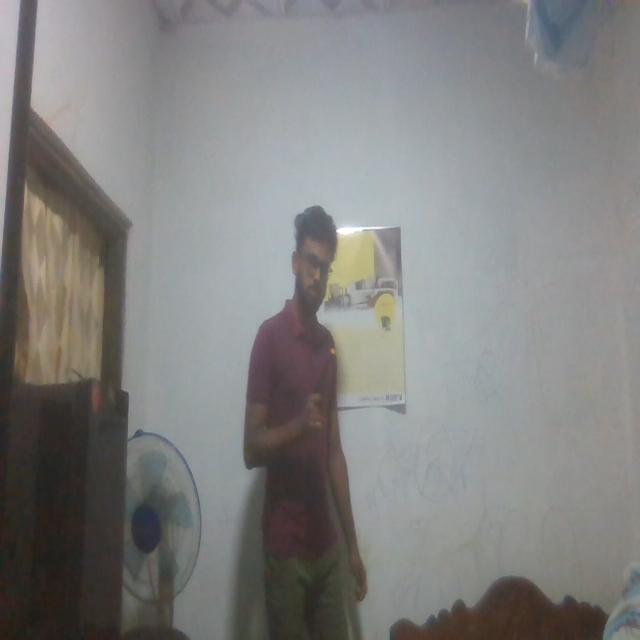Gun_Holder: (302, 342, 342, 420)
Person: (245, 194, 371, 640)
